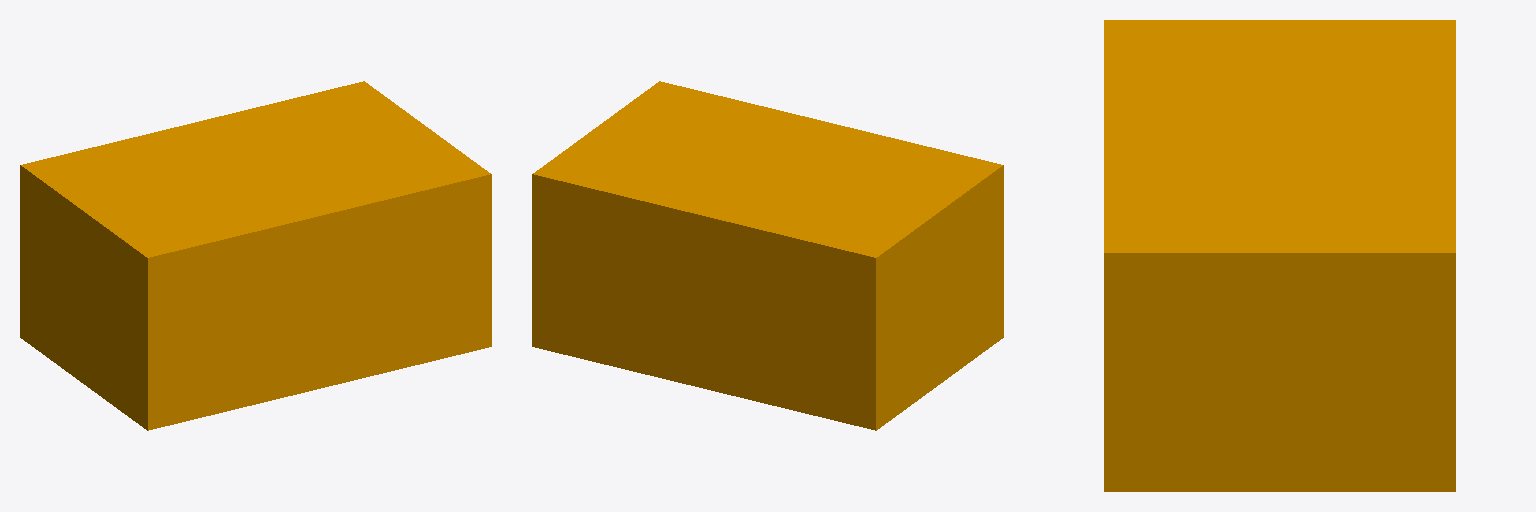
The robot description file, URDF, robot "2x2":
<?xml version='1.0' encoding='UTF-8'?>
<robot name="2x2">
  <link name="base_link">
    <inertial>
      <origin xyz="0.0 0.0 0.0" rpy="0.0 0.0 0.0"/>
      <mass value="0.01"/>
      <inertia ixx="0.1" ixy="0.0" ixz="0.0" iyy="0.1" iyz="0.0" izz="0.1"/>
    </inertial>
    <visual>
      <geometry>
        <box size="0.025 0.016 0.012"/>
      </geometry>
      <material name=""/>
      <origin xyz="0.0 0.0 0.0" rpy="0.0 0.0 0.0"/>
    </visual>
    <collision>
      <geometry>
        <box size="0.025 0.016 0.012"/>
      </geometry>
      <origin xyz="0.0 0.0 0.0" rpy="0.0 0.0 0.0"/>
    </collision>
  </link>
  <material name="">
    <color rgba="1. 1. 1. 1."/>
  </material>
  <contact>
    <lateral_friction value="1.0"/>
    <rolling_friction value="0.0"/>
    <contact_cfm value="0.0"/>
    <contact_erp value="1.0"/>
  </contact>
</robot>

--- Render facts (derived) ---
The picture shows the robot from 3 angles, left to right: view 1: azimuth 30°, elevation 25°; view 2: azimuth 150°, elevation 25°; view 3: azimuth 270°, elevation 25°; orthographic projection.
Robot: 2x2 — 1 links, 0 joints (none); root link base_link; default pose: every joint at zero.
Visible links, largest first — view 1: base_link; view 2: base_link; view 3: base_link.
Link boxes in pixels (left/top/right/bottom): base_link: left=20, top=81, right=491, bottom=430; base_link: left=532, top=81, right=1003, bottom=430; base_link: left=1104, top=20, right=1455, bottom=491.
Size in the robot's own frame: 0.025 by 0.016 by 0.012 metres.
Geometry: primitives only (box / cylinder / sphere), no mesh files.